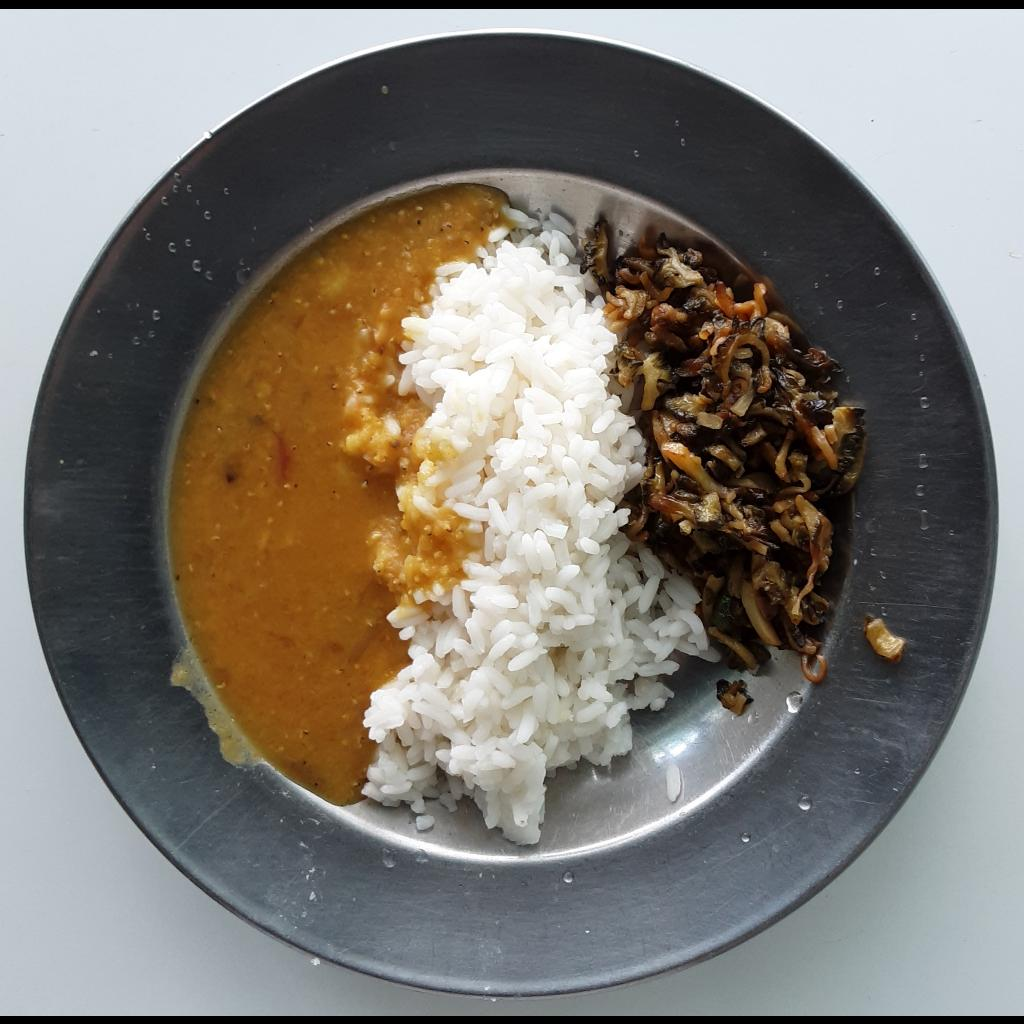daal: (169, 178, 507, 810)
korola-vaji: (593, 211, 864, 722)
rice: (342, 205, 727, 846)
